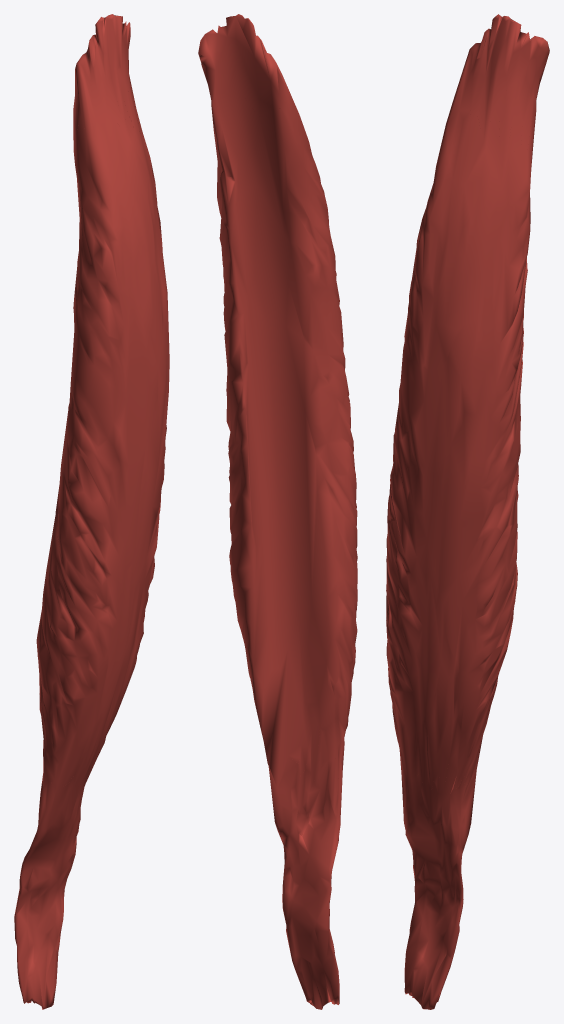
File: musculos-vastus-intermedius-muscle-l.glb
The picture shows the model from 3 angles, left to right: view 1: azimuth 30°, elevation 25°; view 2: azimuth 150°, elevation 25°; view 3: azimuth 330°, elevation 25°; orthographic projection. The views are drawn at different scales.
Parts seen in each view (by area): view 1: Vastus intermedius muscle.l; view 2: Vastus intermedius muscle.l; view 3: Vastus intermedius muscle.l.
Part boxes in pixels (<box>): Vastus intermedius muscle.l: <box>14,14,169,1009</box>; Vastus intermedius muscle.l: <box>198,14,357,1009</box>; Vastus intermedius muscle.l: <box>386,14,549,1009</box>.
Bounding box in the file's own units: 0.0566 × 0.4084 × 0.0478.
